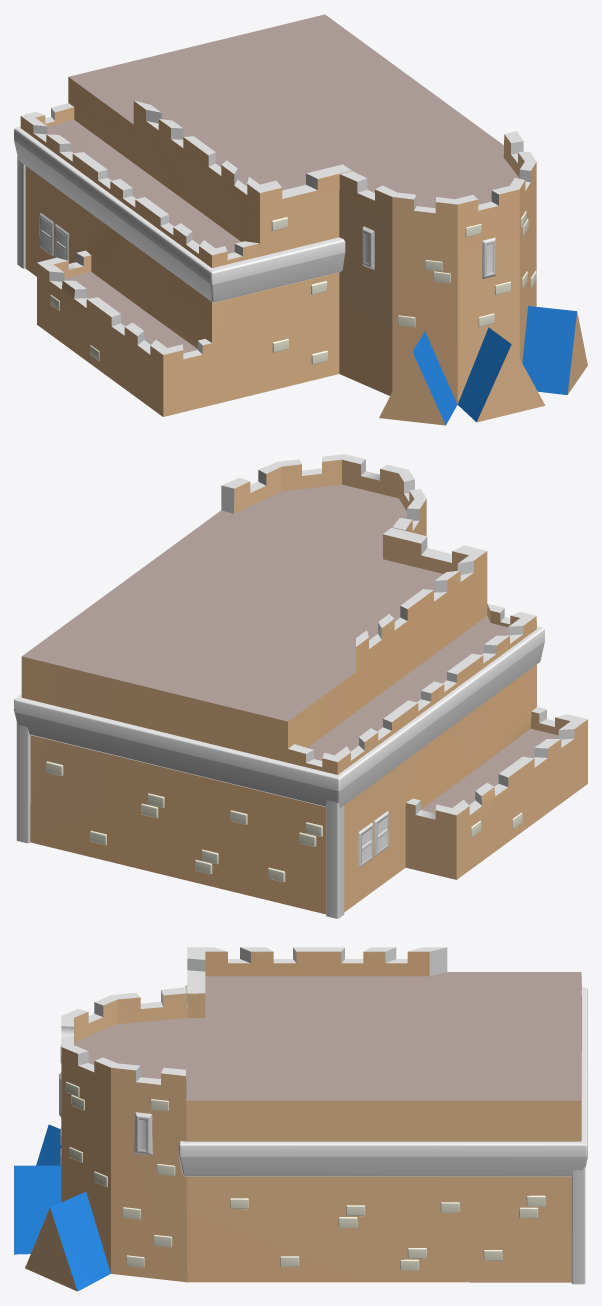
Rendered from castle_002.gltf.
3 views of the same model, one above another, from view 1: azimuth 30°, elevation 25°; view 2: azimuth 150°, elevation 25°; view 3: azimuth 270°, elevation 25° (orthographic). The views are drawn at different scales.
Visible parts, largest first — view 1: castle_002; view 2: castle_002; view 3: castle_002.
Boxes of the visible parts, x1,y1,x2,y2 form: castle_002: (14, 14, 587, 425); castle_002: (14, 454, 587, 918); castle_002: (14, 947, 587, 1291).
Size of the model in its own units: 13.7 by 7.04 by 17.75.
Materials: 2 (1 with a texture image).
